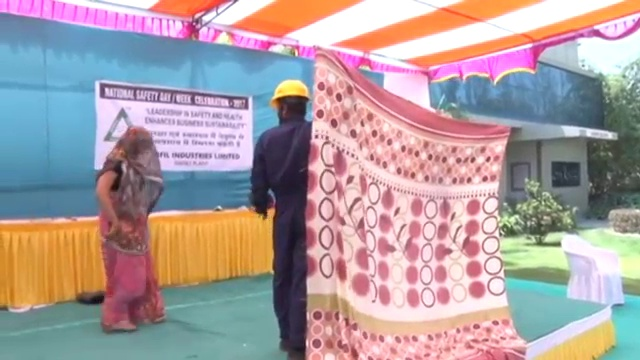helmet: (270, 77, 311, 108)
helmet_off: (120, 120, 156, 159)
helmet_on: (269, 77, 310, 128)
person: (251, 77, 309, 360), (95, 121, 169, 333)
